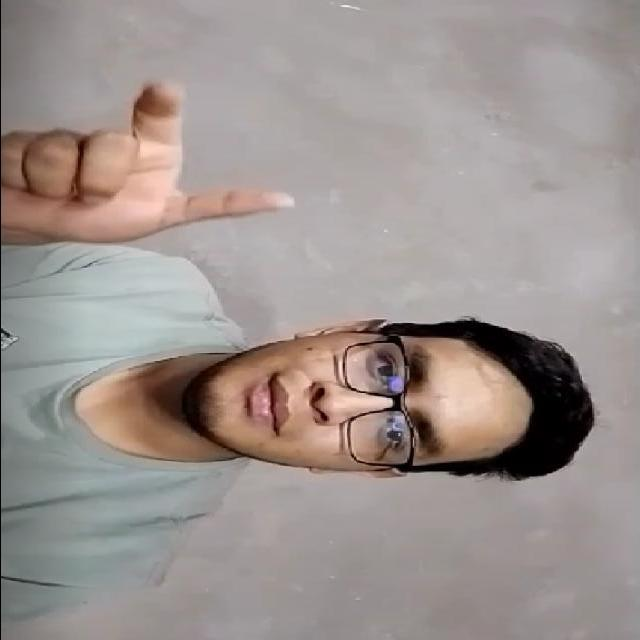X: (0, 75, 338, 261)
